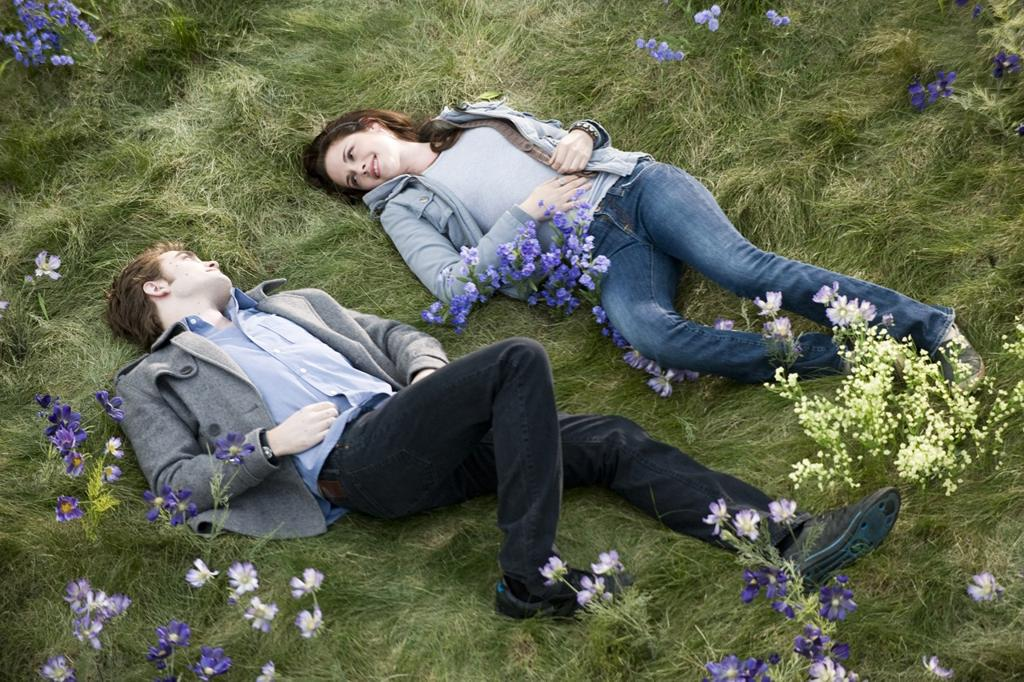face: (328, 138, 404, 194), (164, 250, 234, 296)
